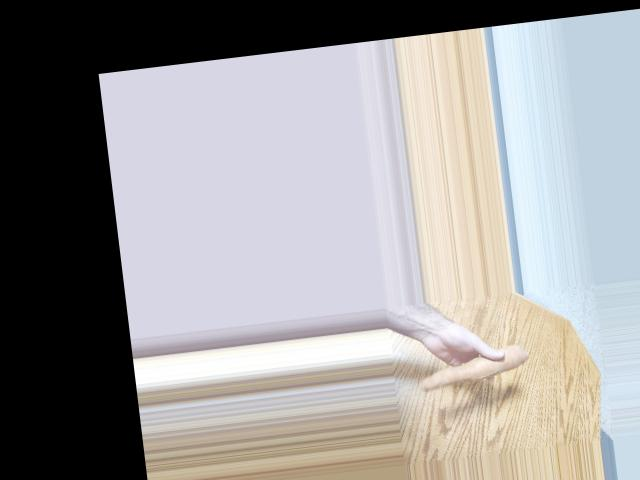sweet_potato: (418, 353, 528, 387)
